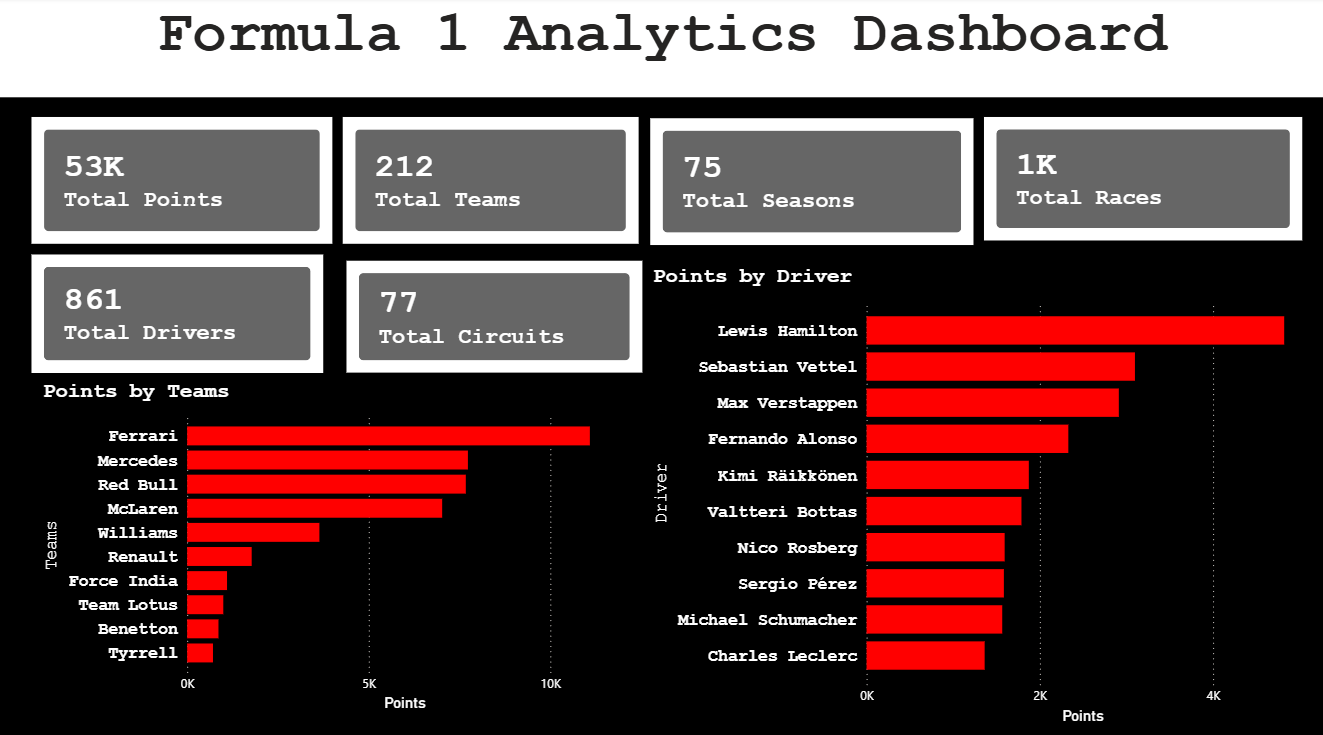

What the dashboard file says about the page in this screenshot:
{"tool":"powerbi","page":{"name":"F1 Analytics Dashboard","canvas":[1280,720],"ordinal":0},"visuals":[{"type":"textbox","box":[0,0,1280,96.5],"z":0},{"type":"cardVisual","fields":{"Data":["Sum(results.points)"]},"box":[27.1,111.4,300,132.9],"z":1000},{"type":"cardVisual","fields":{"Data":["drivers.Total Drivers"]},"box":[27.1,244.3,291.4,124.3],"z":2000},{"type":"cardVisual","fields":{"Data":["circuits.Total Seasons"]},"box":[623.7,112.2,322.1,132.7],"z":3000},{"type":"cardVisual","fields":{"Data":["circuits.Total Circuits","circuits.Total Circuits"]},"box":[330,250,295.7,118.6],"z":4000},{"type":"cardVisual","fields":{"Data":["circuits.Total Races"]},"box":[945.8,111,317.3,129.1],"z":5000},{"type":"clusteredBarChart","fields":{"Category":["drivers.Full Name"],"Y":["Sum(results.points)"]},"box":[625.7,258.6,641.4,448.6],"z":6000},{"type":"cardVisual","fields":{"Data":["drivers.Total Teams","drivers.Total Teams"]},"box":[327.1,111.4,295.7,132.9],"z":7000},{"type":"clusteredBarChart","fields":{"Category":["constructors.name"],"Y":["Sum(results.points)"]},"box":[37.1,368.6,580,325.7],"z":8000}]}

Visuals, with their boxes in screenshot pixels (x1, y1, x2, y2), scaled from the page's 1280x720 canvas onto the 1323x735 screenshot:
textbox: x1=0 y1=0 x2=1322 y2=99
cardVisual - Sum(results.points): x1=28 y1=114 x2=338 y2=249
cardVisual - drivers.Total Drivers: x1=28 y1=249 x2=329 y2=376
cardVisual - circuits.Total Seasons: x1=645 y1=115 x2=978 y2=250
cardVisual - circuits.Total Circuits x circuits.Total Circuits: x1=341 y1=255 x2=647 y2=376
cardVisual - circuits.Total Races: x1=978 y1=113 x2=1306 y2=245
clusteredBarChart - drivers.Full Name x Sum(results.points): x1=647 y1=264 x2=1310 y2=722
cardVisual - drivers.Total Teams x drivers.Total Teams: x1=338 y1=114 x2=644 y2=249
clusteredBarChart - constructors.name x Sum(results.points): x1=38 y1=376 x2=638 y2=709
